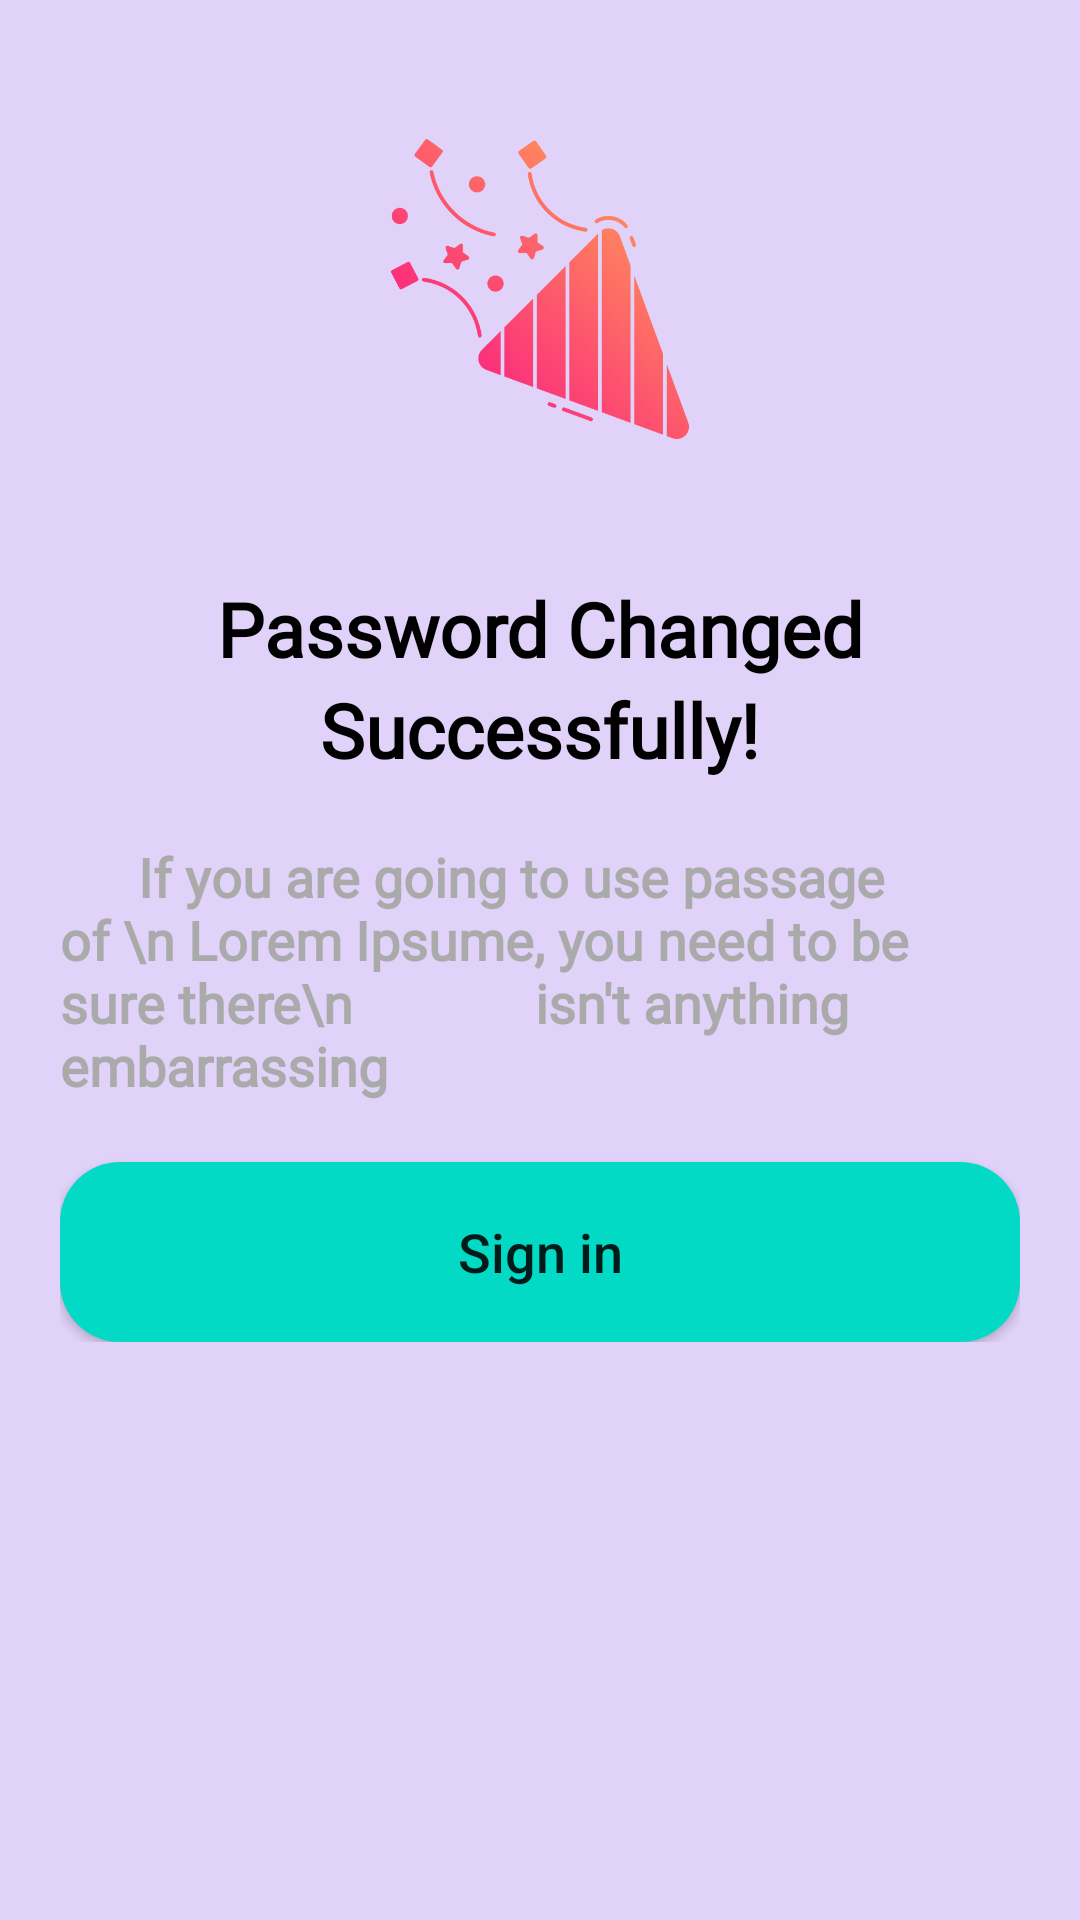

Screen size 1080 × 1920. Icon name, then its center in pixels as (x=x, y=y):
celebration: (x=540, y=289)
